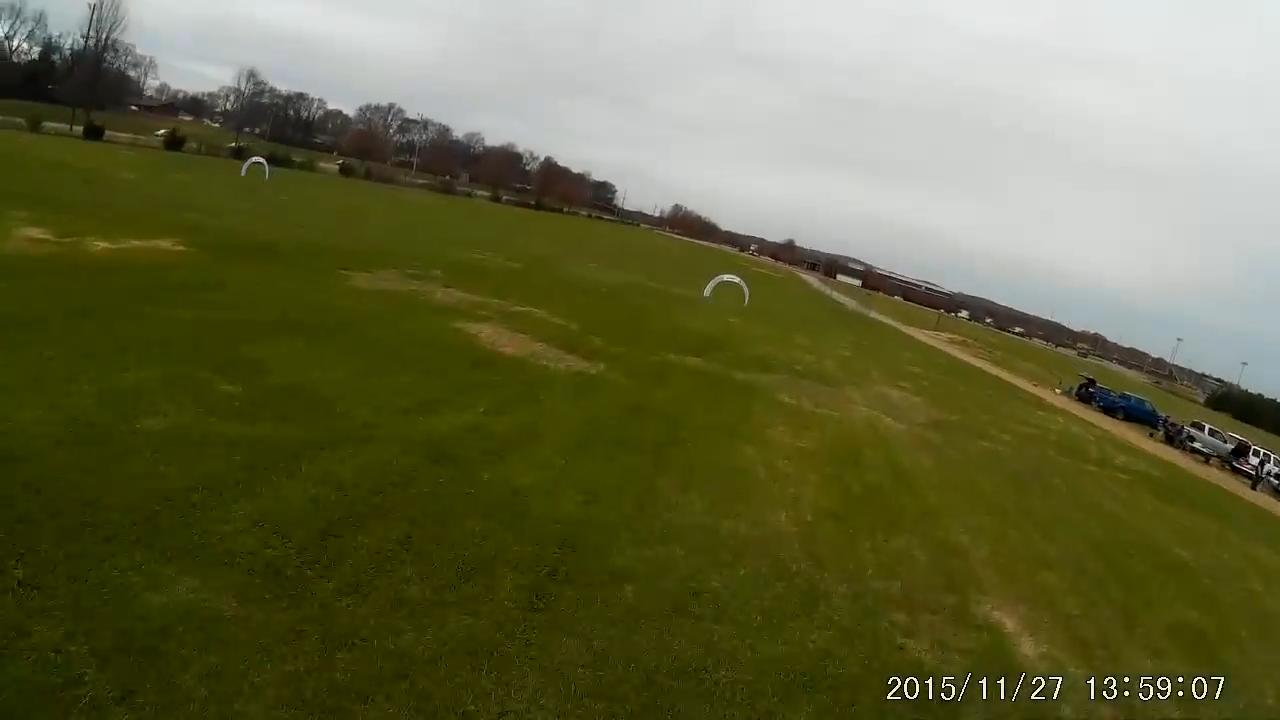gate: (700, 271, 753, 311)
